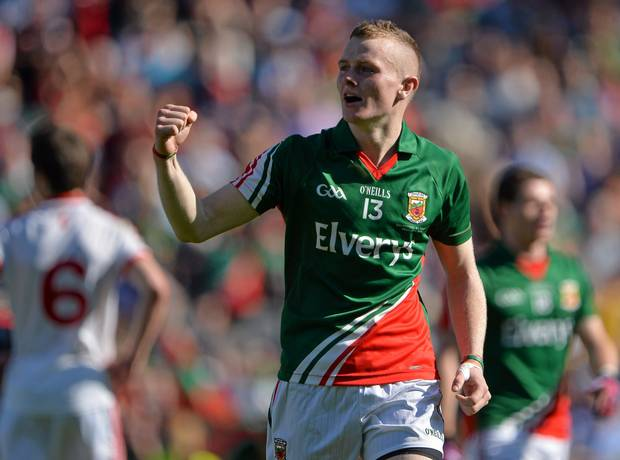player: (256, 5, 484, 457), (7, 109, 173, 459), (484, 155, 607, 451)
